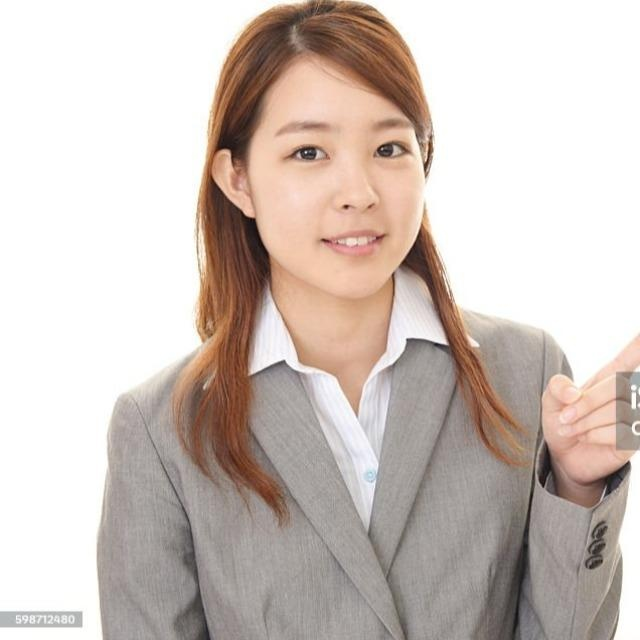Sin_Casco_Mascarrilla: (211, 2, 437, 294)
Sin_Chaleco: (130, 303, 571, 640)
